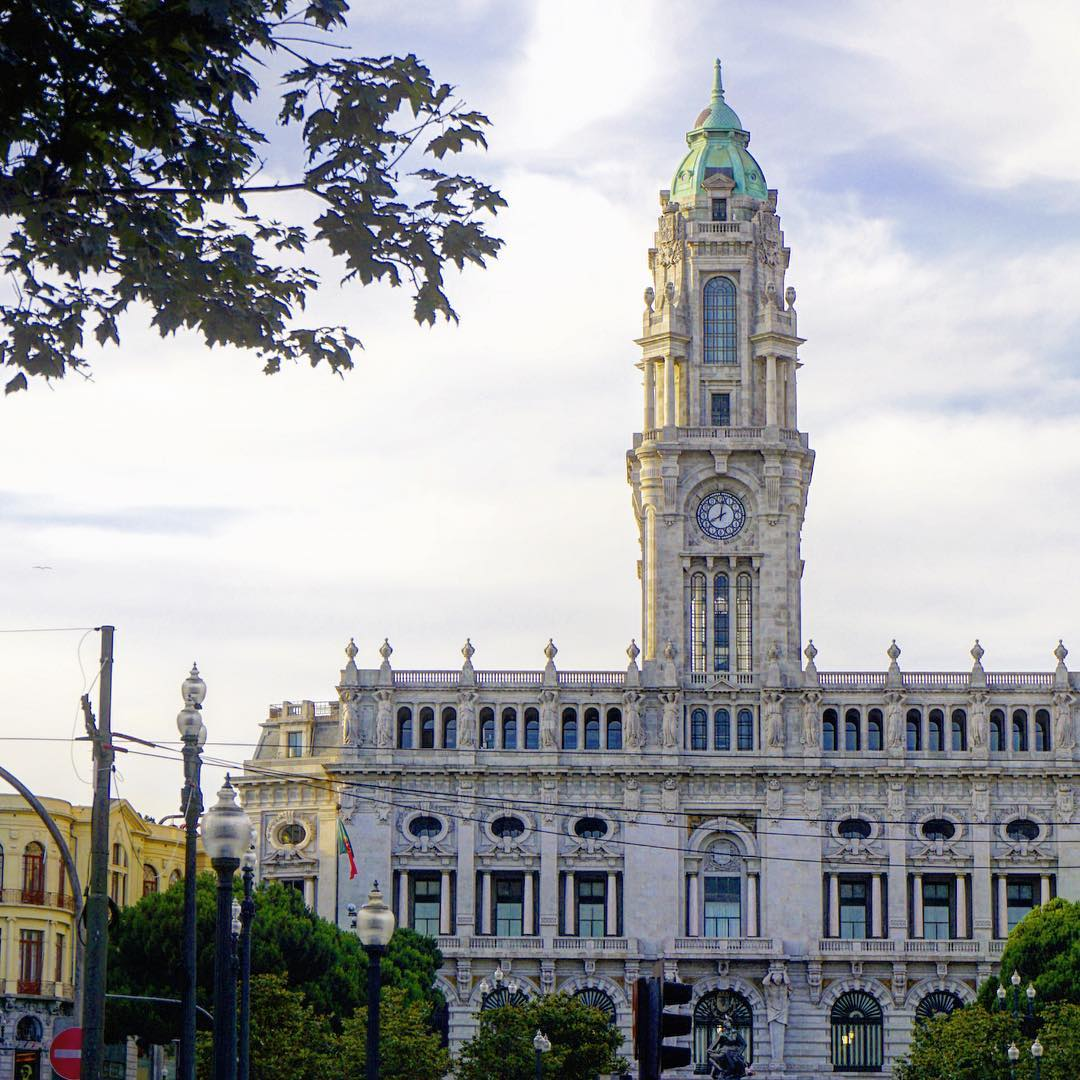camara: (225, 56, 1079, 1079)
